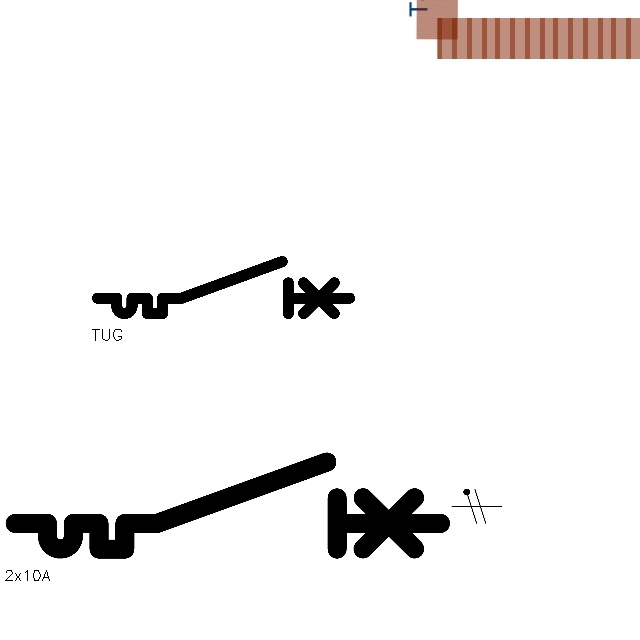interruptor_termomagnetico: (4, 451, 452, 560), (91, 255, 356, 320)
